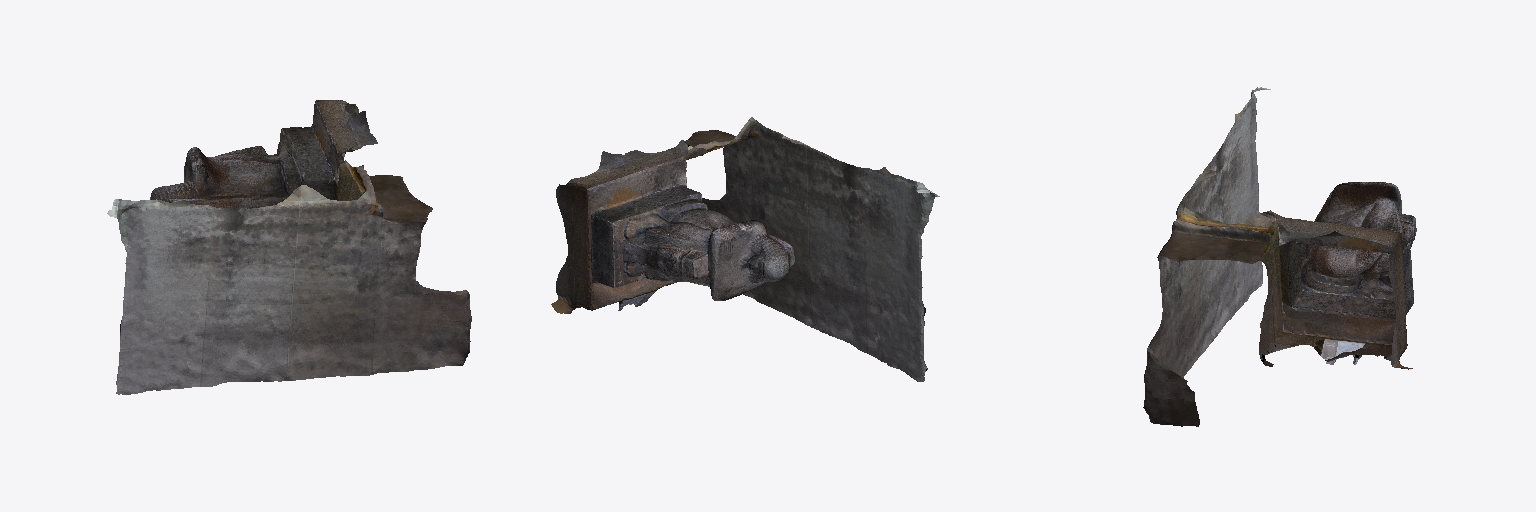
3 renders of one model, left to right at view 1: azimuth 30°, elevation 25°; view 2: azimuth 150°, elevation 25°; view 3: azimuth 270°, elevation 25°, orthographic.
Parts seen in each view (by area): view 1: TexturedMesh; view 2: TexturedMesh; view 3: TexturedMesh.
Boxes of the visible parts, x1,y1,x2,y2 form: TexturedMesh: [107, 100, 471, 394]; TexturedMesh: [551, 117, 939, 381]; TexturedMesh: [1143, 87, 1416, 426].
Size of the model in its own units: 14.29 by 8.31 by 10.5.
41 materials, 41 textured.